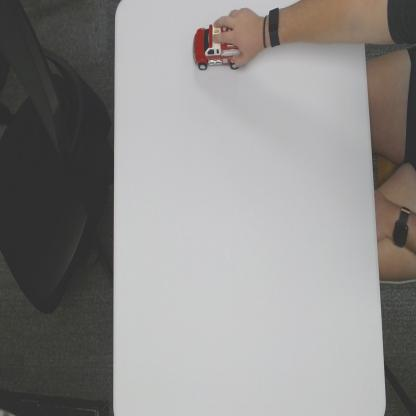Firetruck: (191, 23, 243, 72)
Hand: (212, 6, 264, 69)
